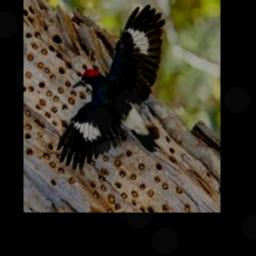Woodpecker: (56, 4, 165, 170)
